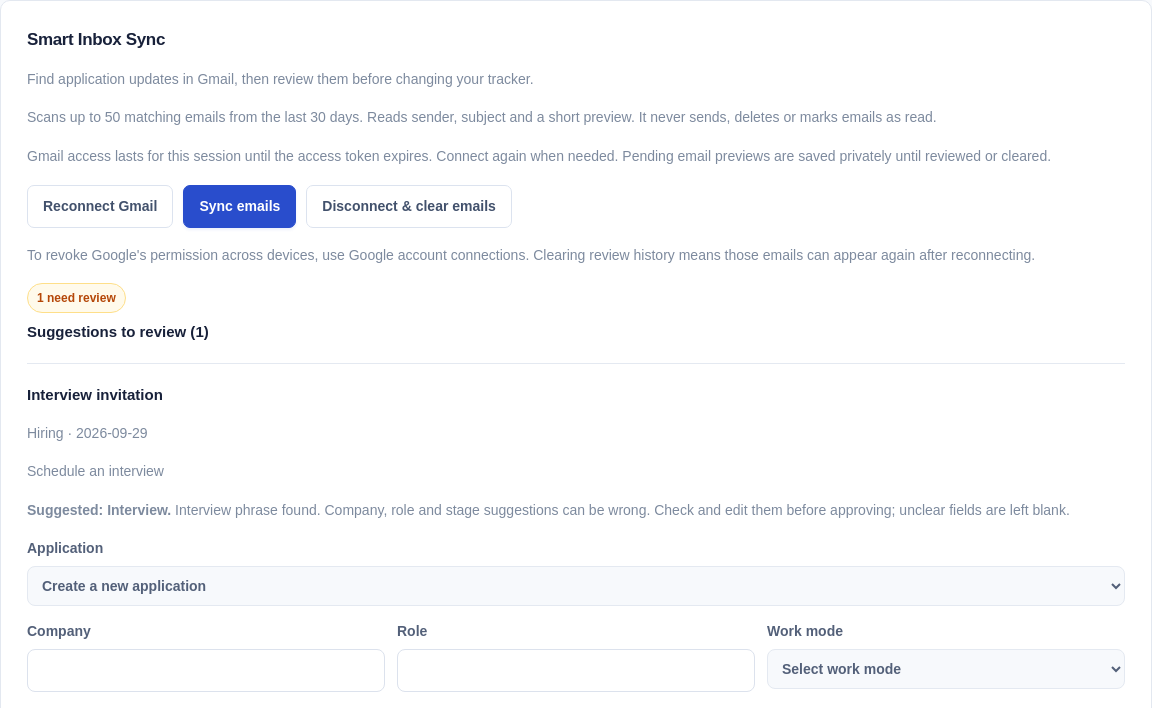
Test: shows a suggestion without changing an application until explicitly approved
Expected: the heading "Interview invitation" is shown, top-left (27, 386), bottom-right (163, 403)
Select "Acme — Java Developer" in the dropdown labelled "Application" at [576, 586], box top-left (27, 566), bottom-right (1125, 606)
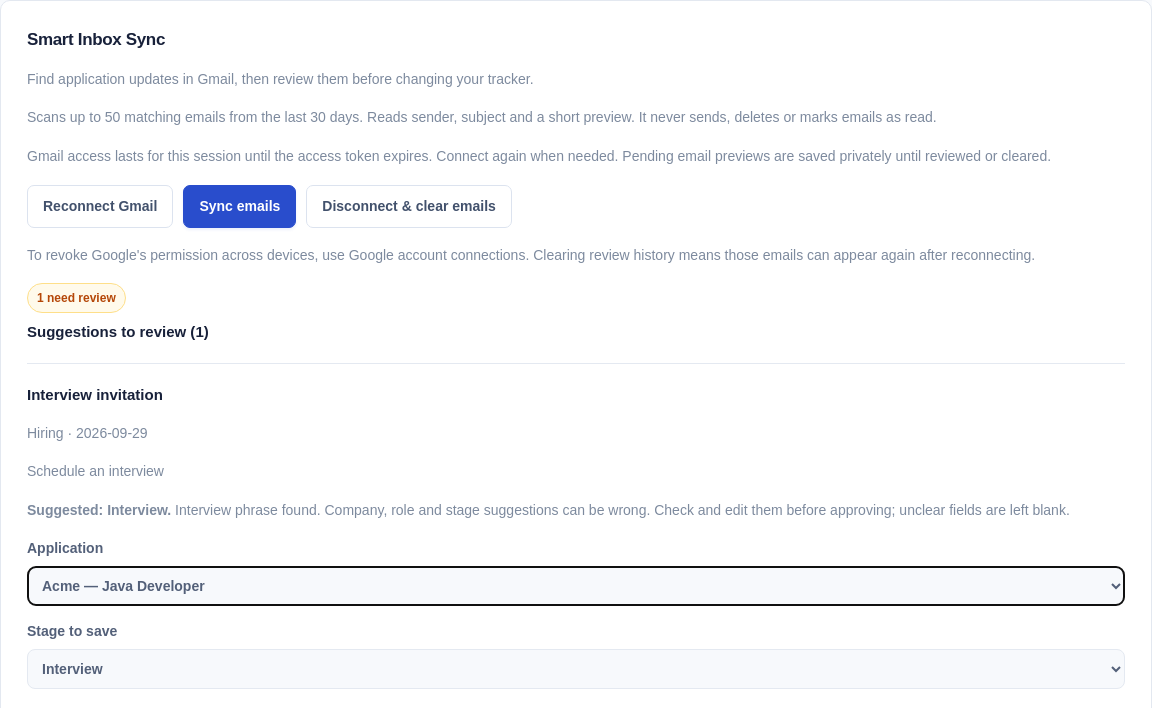
Select "Screening" in the dropdown labelled "Stage to save" at [576, 669], box top-left (27, 649), bottom-right (1125, 689)
(page scrolled)
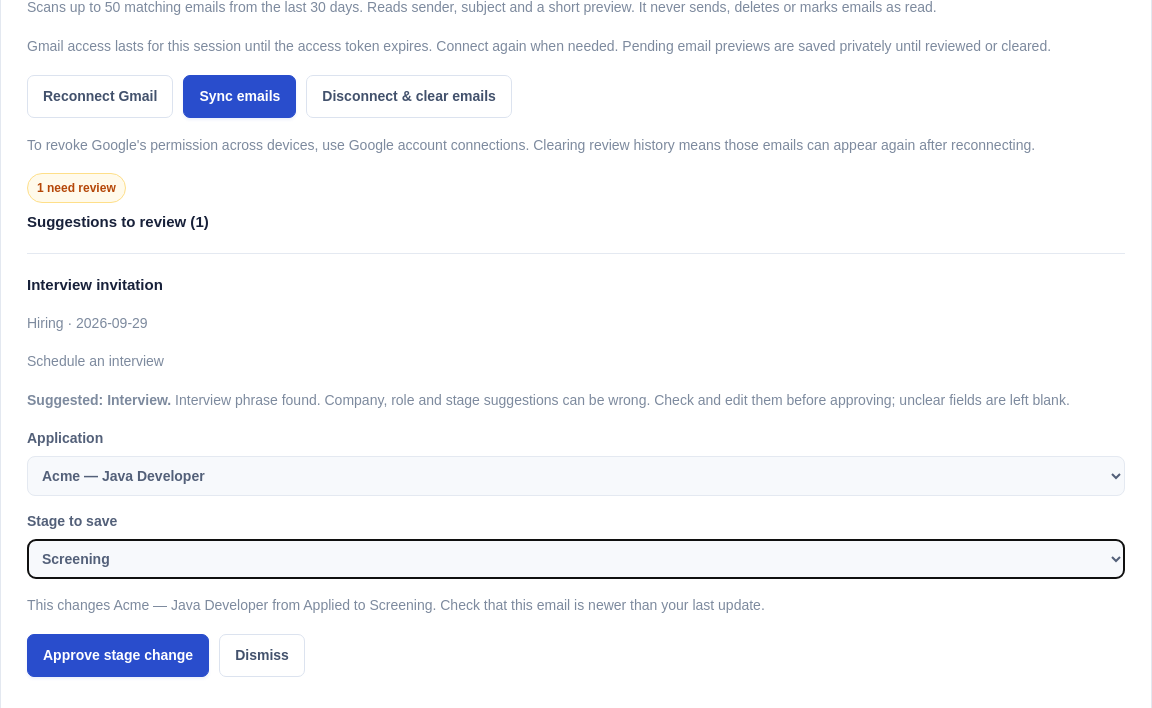
Click the button "Approve stage change".
click(118, 655)  # box top-left (27, 634), bottom-right (209, 677)
(page scrolled)
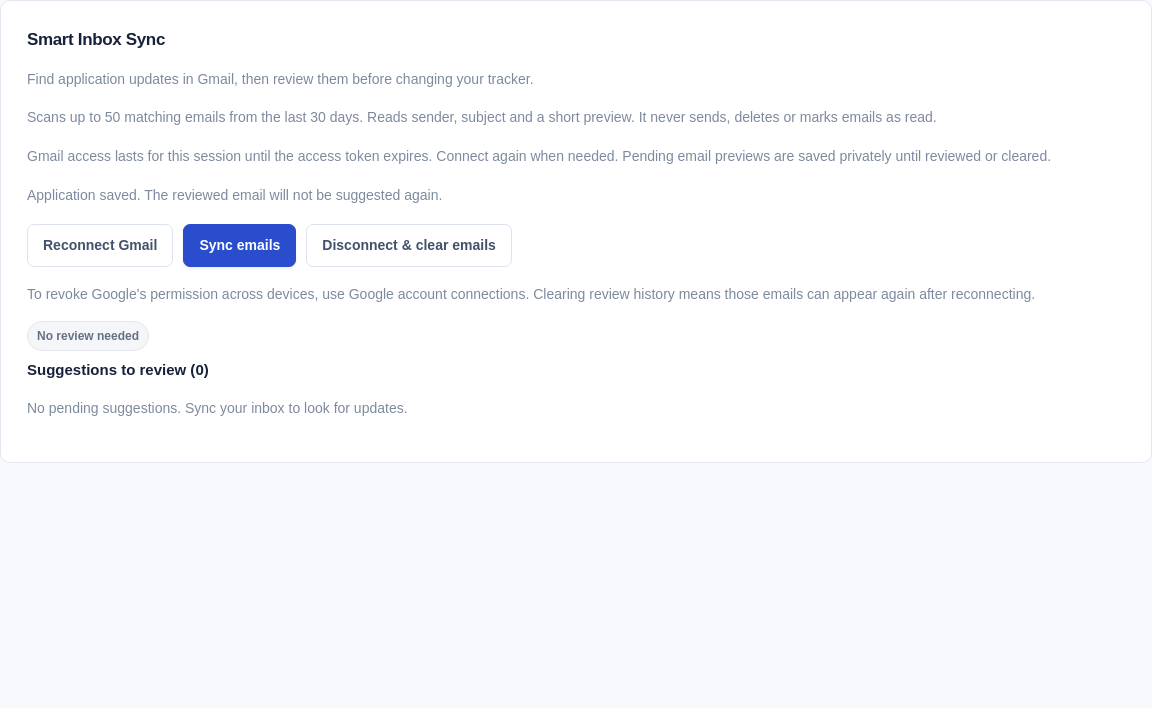
Result: the heading "Interview invitation" is gone
